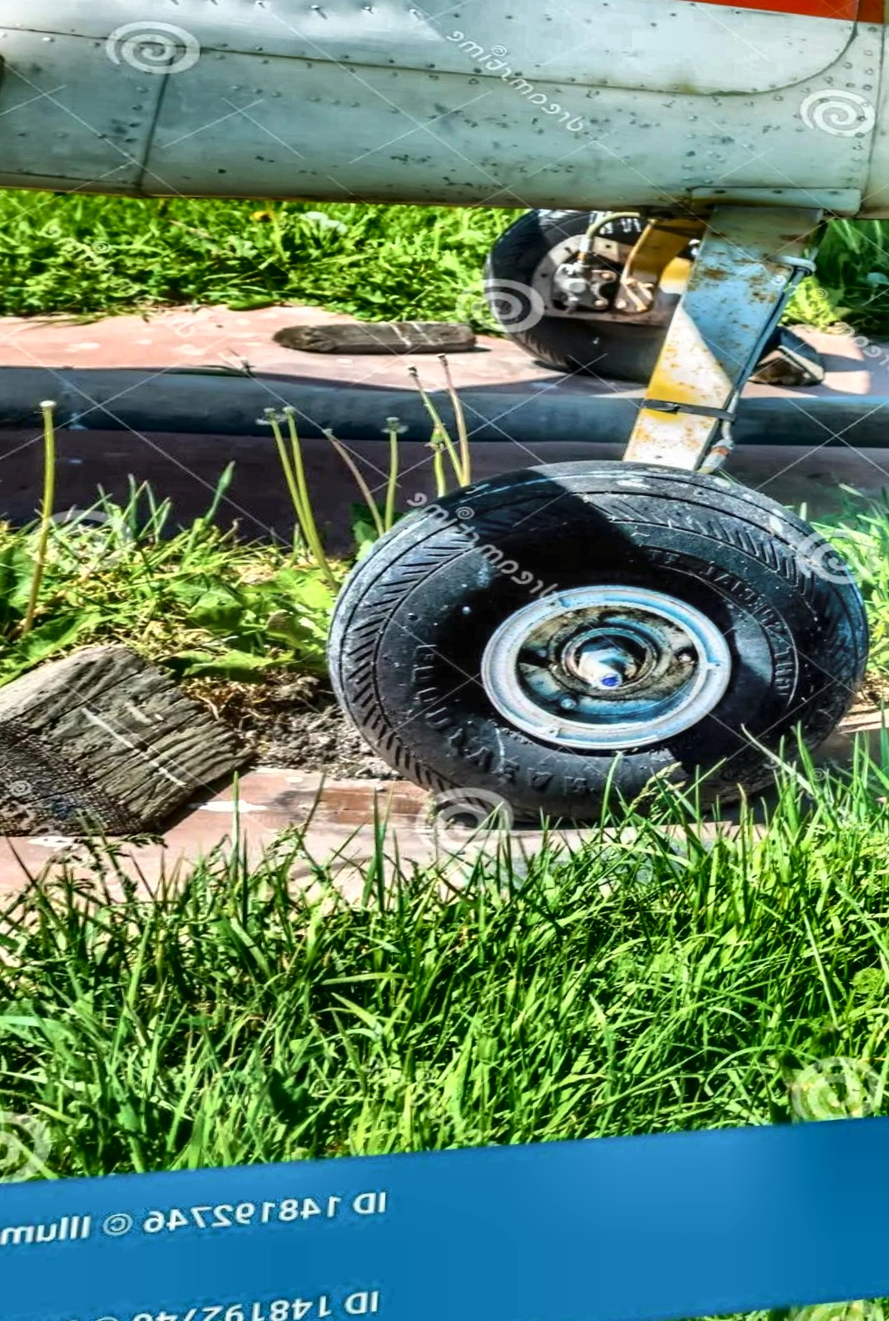chock: (0, 619, 275, 869), (744, 312, 833, 393)
wheel: (318, 454, 889, 837), (483, 201, 681, 377)
